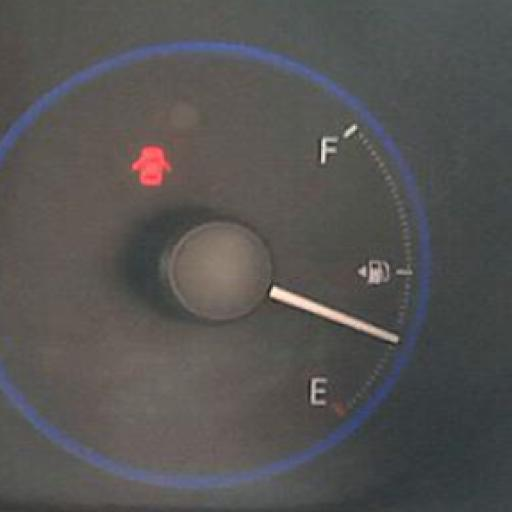empty: (306, 369, 334, 407)
fuel_icon: (356, 257, 394, 294)
full: (314, 130, 343, 172)
guage_area: (6, 38, 442, 486)
needle_center: (159, 213, 289, 338)
needle_tip: (361, 314, 406, 356)
